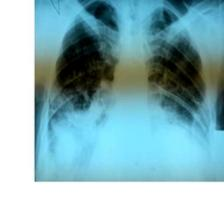tuberculosis: (41, 0, 212, 178)
